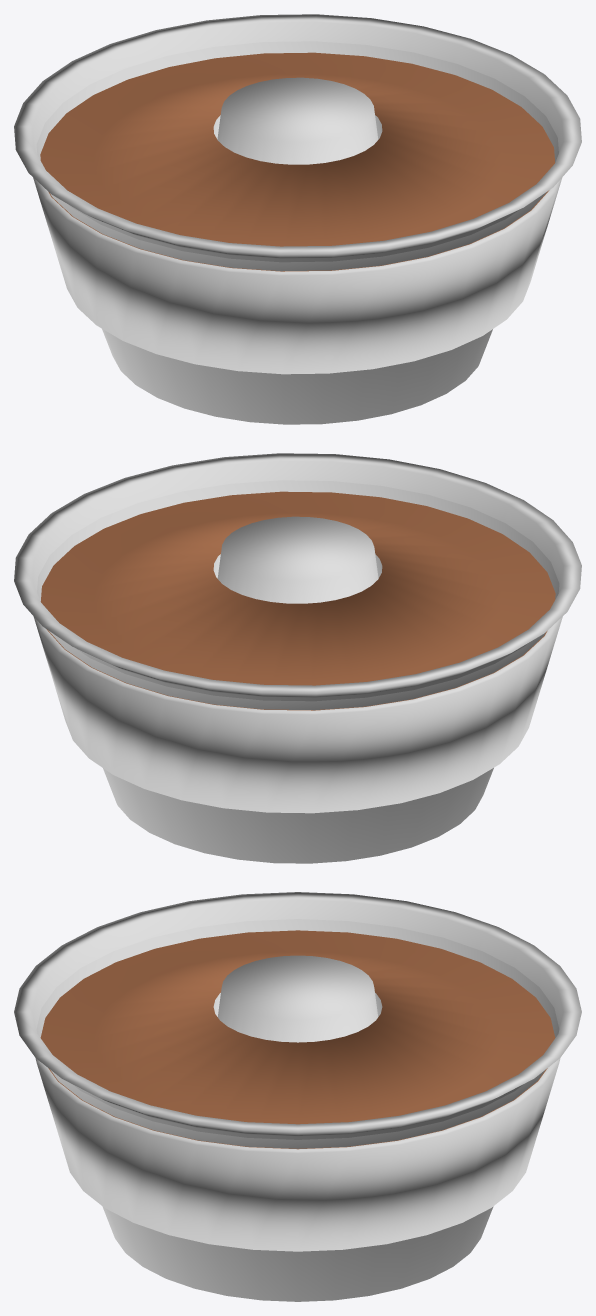
File: bolo_assado.fbx
3 renders of one model, top to bottom at view 1: azimuth 30°, elevation 25°; view 2: azimuth 150°, elevation 25°; view 3: azimuth 270°, elevation 25°, orthographic.
Parts seen in each view (by area): view 1: Circle; view 2: Circle; view 3: Circle.
Boxes of the visible parts, x1,y1,x2,y2 form: Circle: [14, 14, 581, 424]; Circle: [14, 453, 581, 863]; Circle: [14, 892, 581, 1301].
Bounding box in the file's own units: 15.08 × 6.89 × 15.08.
